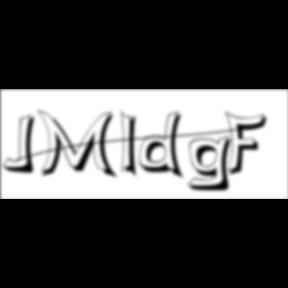F: (225, 110, 273, 178)
J: (3, 114, 42, 176)
M: (37, 108, 121, 181)
d: (139, 110, 189, 182)
g: (187, 134, 239, 194)
l: (120, 108, 144, 182)
